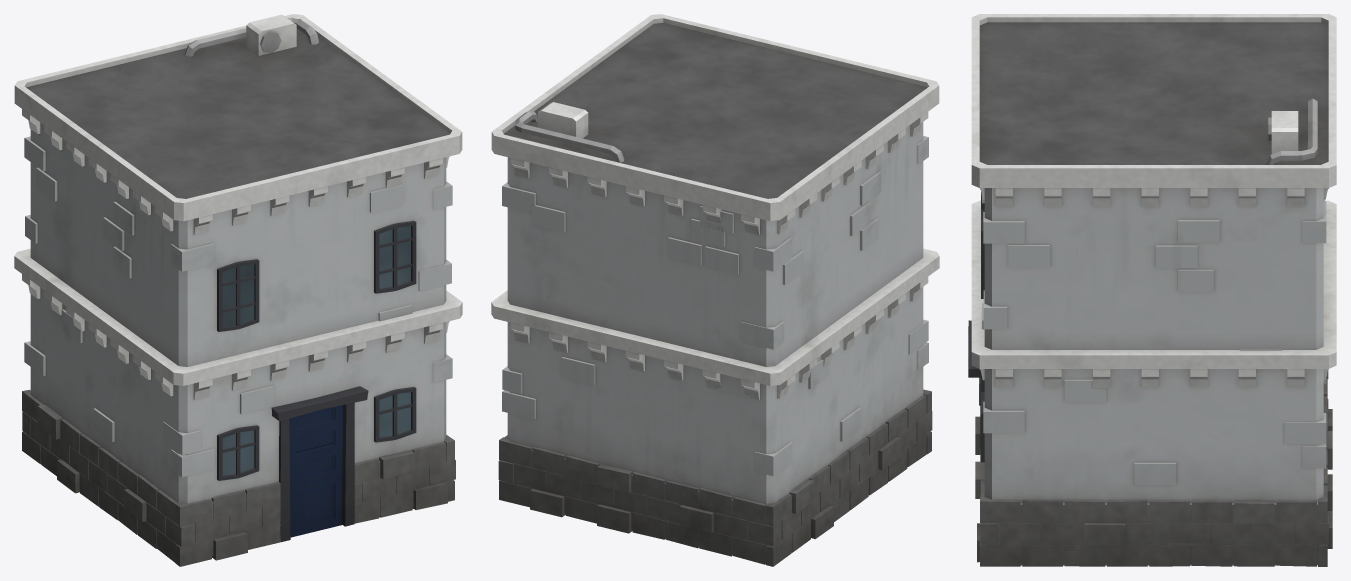
File: building_2Story_2.glb
3 renders of one model, left to right at view 1: azimuth 30°, elevation 25°; view 2: azimuth 150°, elevation 25°; view 3: azimuth 270°, elevation 25°, orthographic. The views are drawn at different scales.
Visible parts, largest first — view 1: 2Story_2_high; view 2: 2Story_2_high; view 3: 2Story_2_high.
Boxes of the visible parts, bbox=[...] form: 2Story_2_high: bbox=[14, 14, 462, 566]; 2Story_2_high: bbox=[491, 14, 939, 566]; 2Story_2_high: bbox=[968, 14, 1336, 566].
Size of the model in its own units: 2.16 by 2.76 by 2.17.
2 materials, 2 textured.
